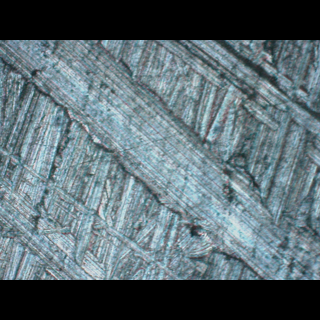d: (0, 40, 318, 279), (129, 39, 319, 169)
